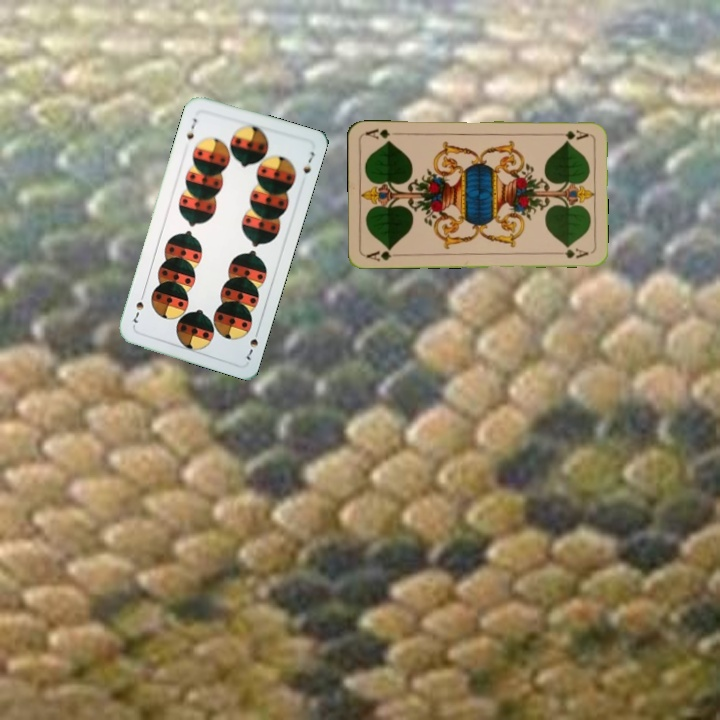GA: (363, 244, 403, 264), (551, 125, 590, 142)
S7: (242, 324, 262, 363), (182, 114, 200, 142)
